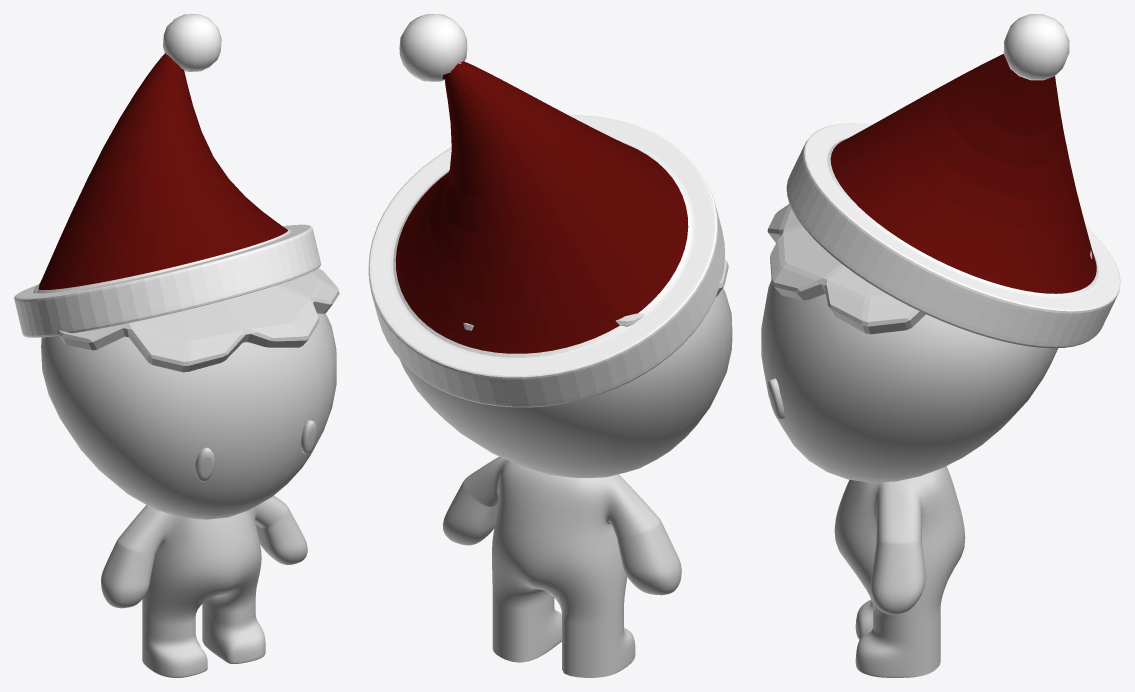
File: chonti_navideno.glb
3 renders of one model, left to right at view 1: azimuth 30°, elevation 25°; view 2: azimuth 150°, elevation 25°; view 3: azimuth 270°, elevation 25°, orthographic. The views are drawn at different scales.
Visible parts, largest first — view 1: Cube.008, Cube.004, Cube.007; view 2: Cube.004, Cube.007, Cube.008; view 3: Cube.004, Cube.008, Cube.007.
Boxes of the visible parts, x1,y1,x2,y2 form: Cube.008: (33,268,339,519); Cube.004: (14,14,320,337); Cube.007: (101,496,307,677); Cube.004: (368,14,724,407); Cube.007: (442,456,681,677); Cube.008: (399,259,732,477); Cube.004: (786,14,1120,348); Cube.008: (761,203,1092,482); Cube.007: (834,466,965,677).
Bounding box in the file's own units: 1.77 × 3.67 × 1.81.
